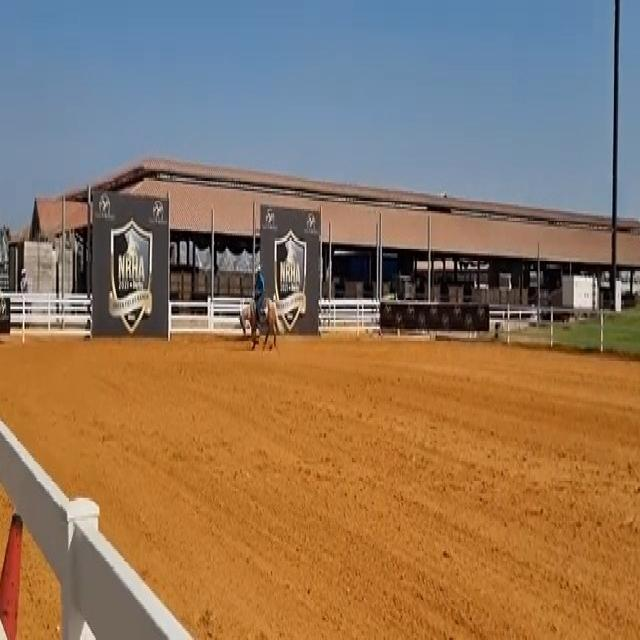horse: (237, 291, 282, 351)
